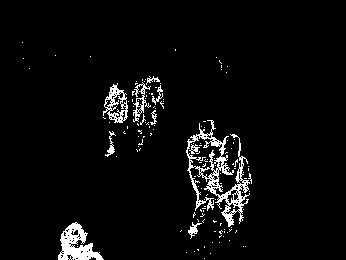person: (211, 133, 253, 237), (188, 118, 223, 236), (134, 76, 165, 151), (102, 83, 128, 157)
